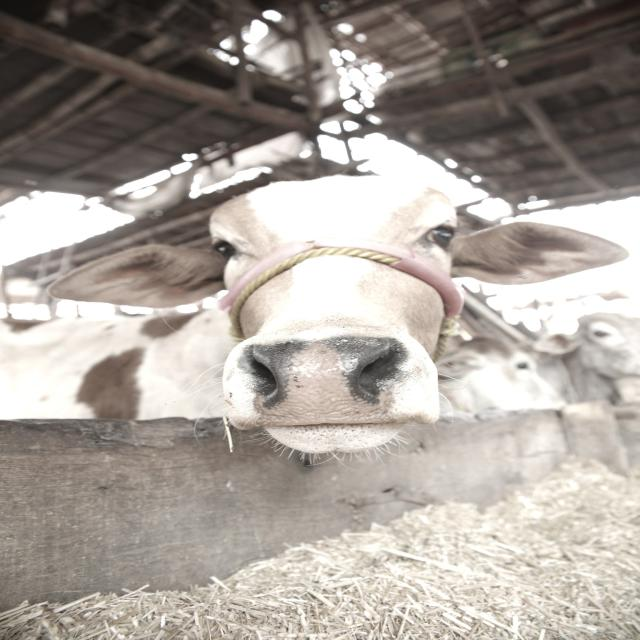muzzles: (217, 328, 426, 428)
